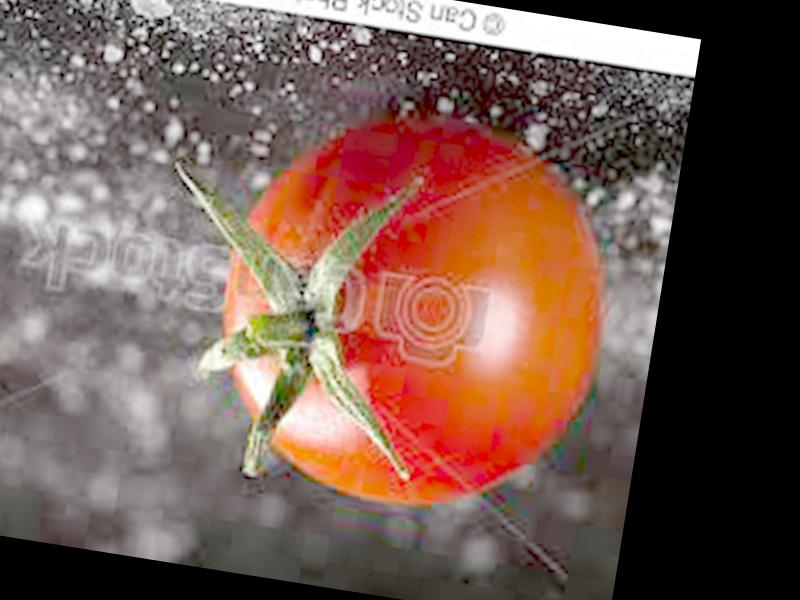Tomato: (196, 93, 630, 532)
